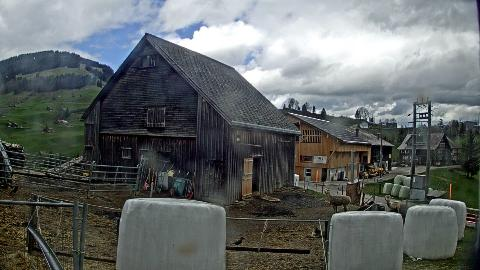sheep: (324, 188, 350, 212), (384, 195, 410, 216), (311, 227, 327, 239), (357, 201, 375, 211), (374, 206, 400, 212)
